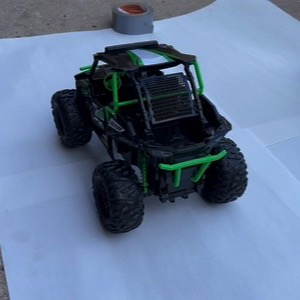polaris: (49, 39, 249, 236)
